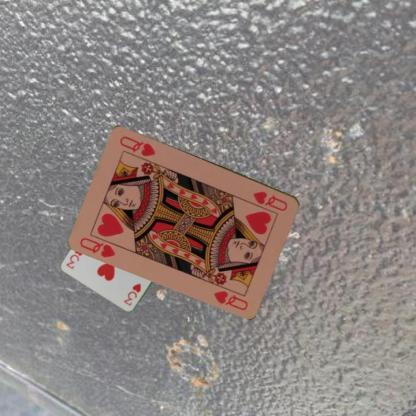3h: (121, 281, 142, 307)
Qh: (78, 234, 118, 259), (250, 188, 290, 212)
